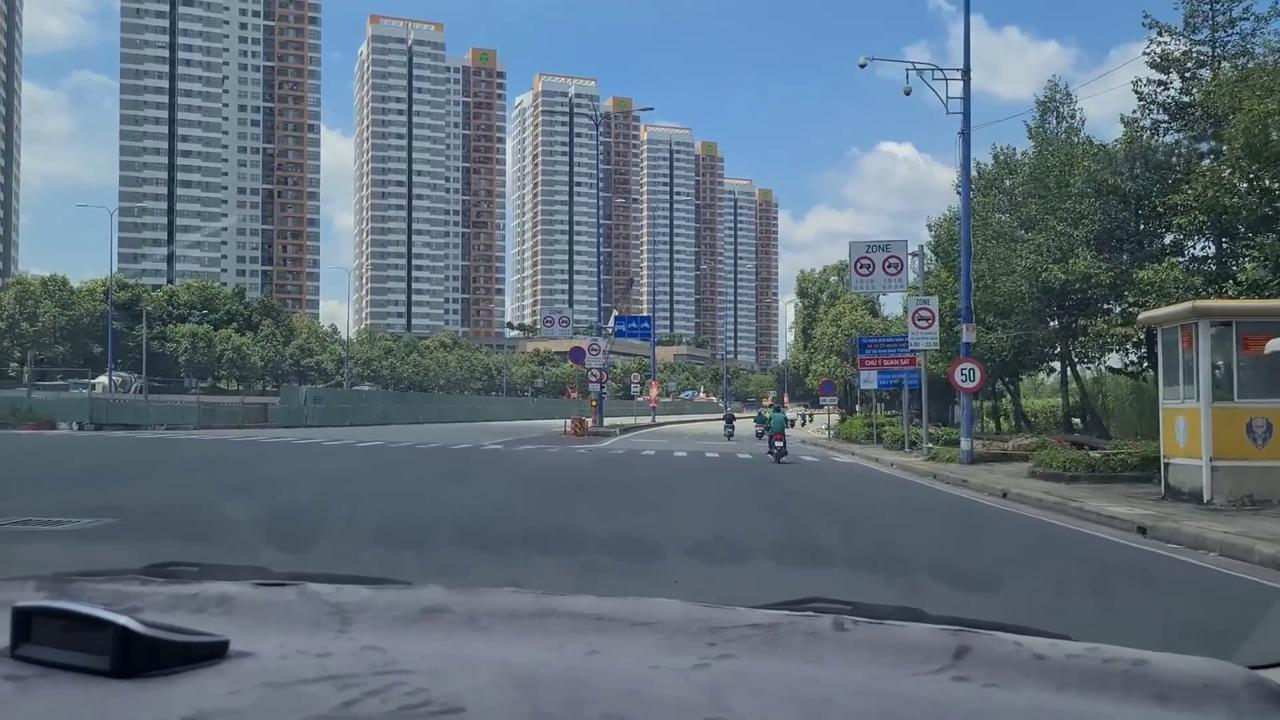Cấm cac phương tiện hoạt động trong khung giờ cố định: (850, 240, 909, 292), (907, 296, 941, 350), (538, 306, 574, 337), (586, 336, 603, 368)
Cấm dừng - Cấm đỗ: (567, 342, 586, 366), (818, 380, 838, 398)
Cấm xe máy: (586, 368, 604, 384)
Giới hạn tốc độ 50Km/h: (947, 355, 985, 395)
Giới hạn tốc độ 80Km/h: (629, 370, 643, 384)
Khác: (855, 334, 920, 390)
Làn đường cho từng xe: (613, 314, 653, 341)
